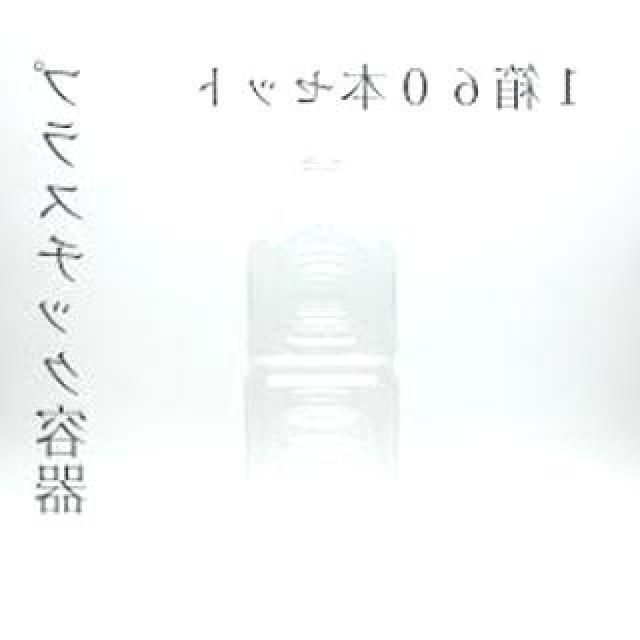Pet_Bottle: (238, 112, 398, 616)
